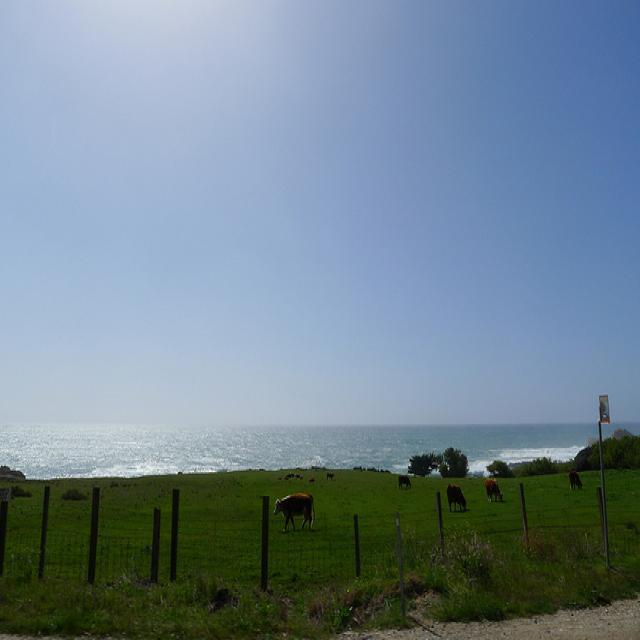cow: (270, 490, 315, 532), (445, 481, 465, 510), (482, 477, 503, 501), (567, 469, 582, 489), (397, 474, 411, 487), (325, 471, 332, 478), (307, 474, 314, 481), (298, 472, 302, 478)
